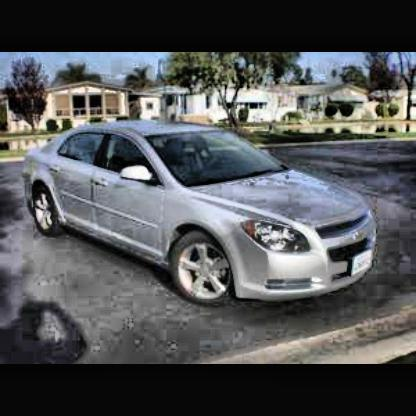Chevrolet Malibu Hybrid Sedan 2010: (22, 119, 381, 311)
